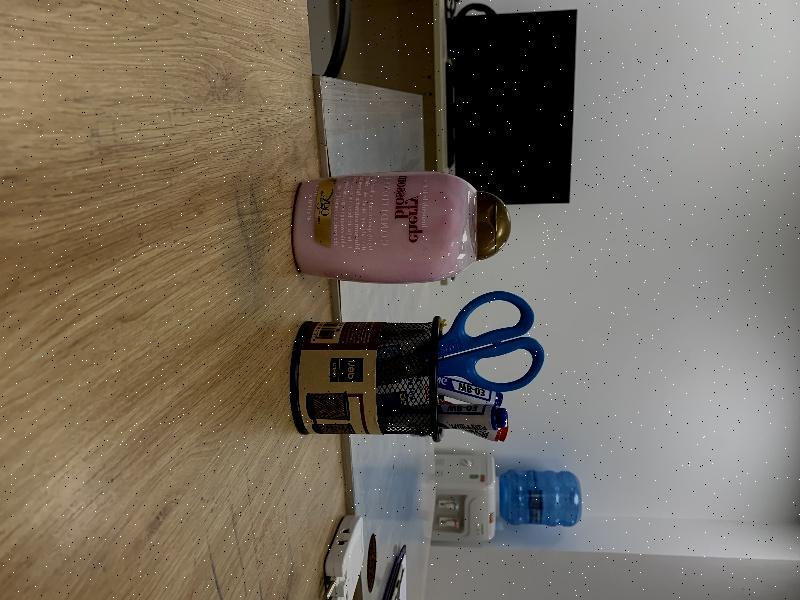CherryBlossom_Conditioner: (293, 171, 511, 284)
